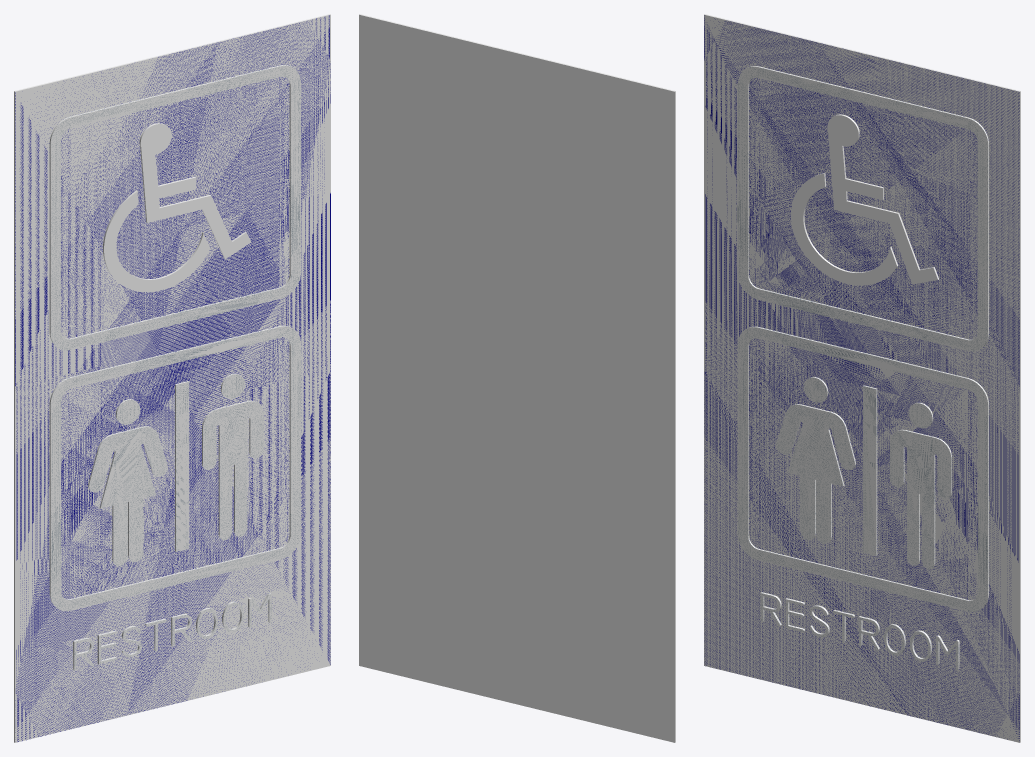
The model's file is Restroom.dae.
3 views of the same model, side by side, from view 1: azimuth 30°, elevation 25°; view 2: azimuth 150°, elevation 25°; view 3: azimuth 330°, elevation 25° (orthographic).
Visible parts, largest first — view 1: Handicap_Unisex_Restroom_sign (×2), group_0 (×3), group_3 (×3), group_2 (×3), group_1 (×2); view 2: Handicap_Unisex_Restroom_sign; view 3: Handicap_Unisex_Restroom_sign (×2), group_0 (×3), group_3 (×3), group_2 (×3), group_1 (×2).
Boxes of the visible parts, left/top/right/bottom form: Handicap_Unisex_Restroom_sign (×2): left=14, top=14, right=330, bottom=742; group_0 (×3): left=49, top=65, right=300, bottom=350; group_3 (×3): left=49, top=325, right=300, bottom=611; group_2 (×3): left=88, top=381, right=263, bottom=566; group_1 (×2): left=104, top=124, right=250, bottom=292; Handicap_Unisex_Restroom_sign: left=359, top=14, right=675, bottom=742; Handicap_Unisex_Restroom_sign (×2): left=704, top=14, right=1020, bottom=742; group_0 (×3): left=737, top=66, right=988, bottom=351; group_3 (×3): left=737, top=326, right=988, bottom=611; group_2 (×3): left=776, top=385, right=951, bottom=569; group_1 (×2): left=790, top=115, right=937, bottom=285.
Bounding box in the file's own units: 12.06 × 0.1469 × 23.74.
